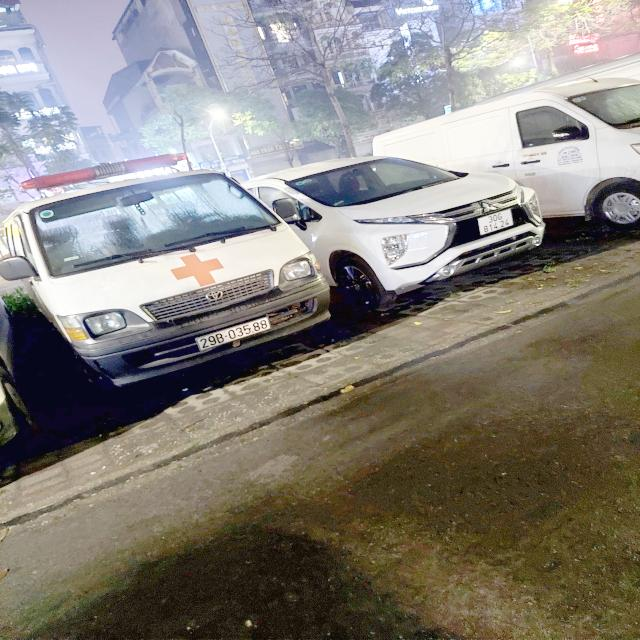license_plate: (194, 316, 274, 354)
